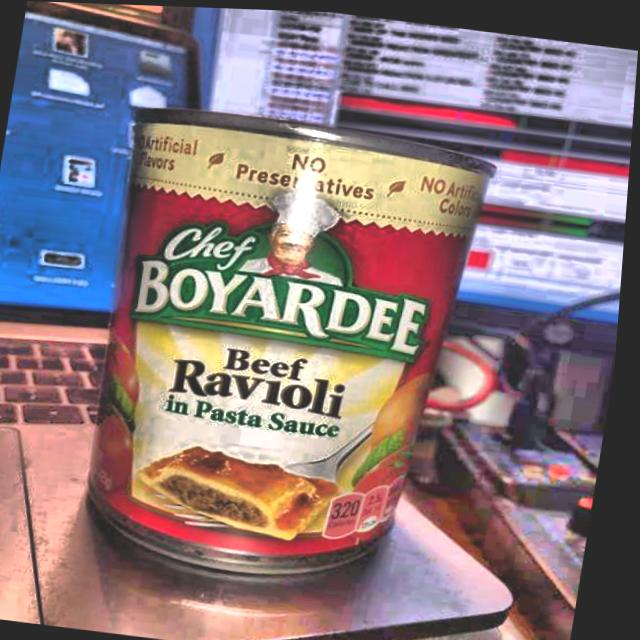Cans: (51, 75, 517, 604)
